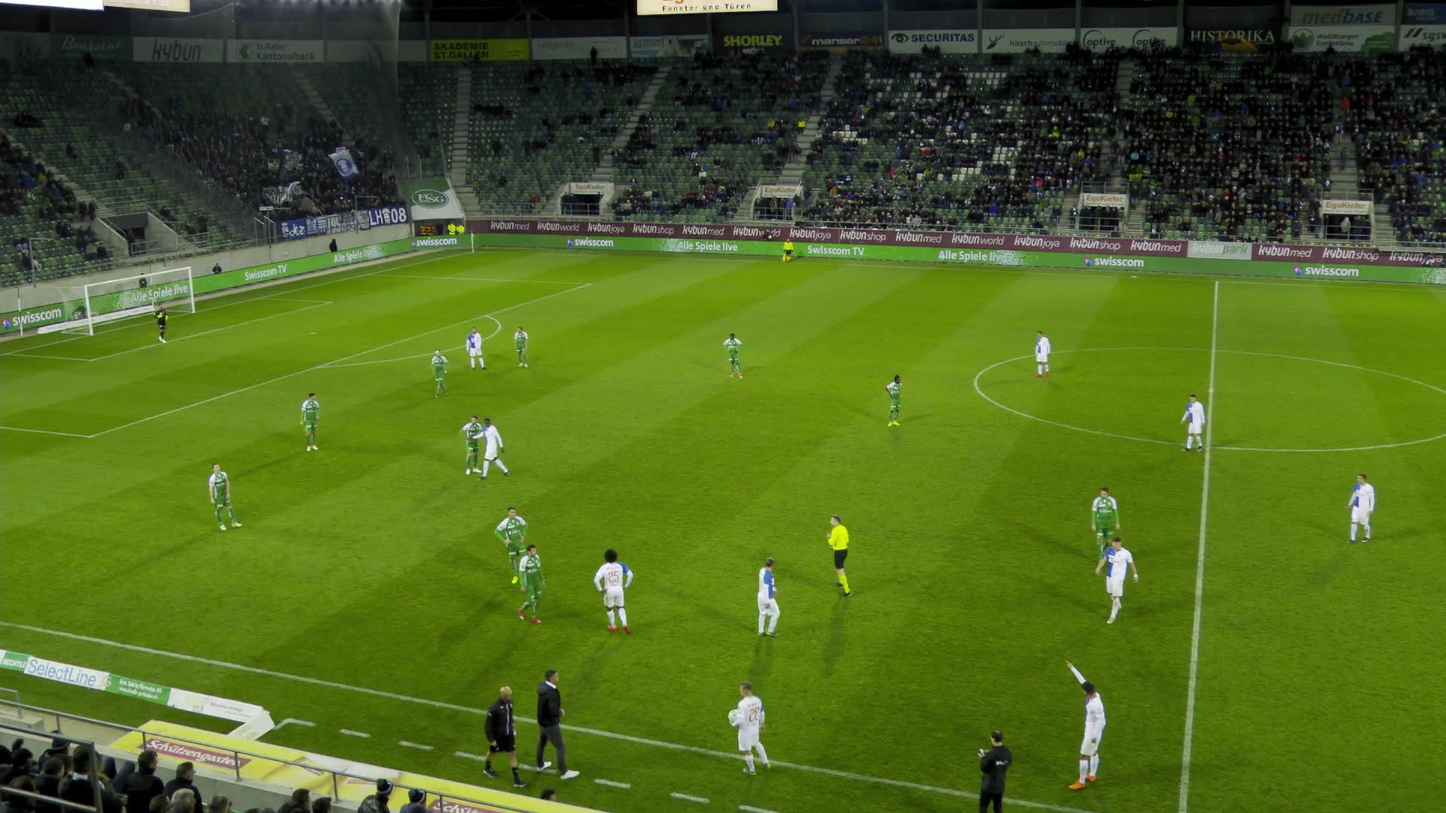ball: (728, 708, 737, 719)
player: (1065, 657, 1106, 785), (731, 679, 772, 772), (1096, 535, 1136, 620), (596, 547, 636, 632), (494, 504, 527, 580), (516, 541, 547, 620), (210, 460, 244, 528), (472, 415, 507, 477), (754, 555, 780, 635), (1092, 485, 1119, 560), (1346, 471, 1375, 540), (1182, 391, 1205, 450), (301, 389, 322, 449), (461, 413, 482, 473), (431, 347, 450, 395), (724, 331, 743, 376), (886, 372, 902, 425), (1034, 328, 1051, 375), (467, 325, 486, 367), (514, 324, 530, 365), (154, 300, 168, 341)
referee: (825, 515, 850, 596), (782, 235, 793, 259)
